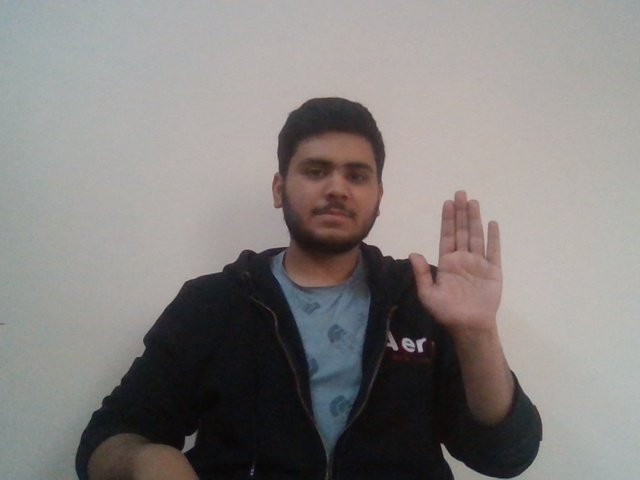Hello: (408, 185, 527, 326)
